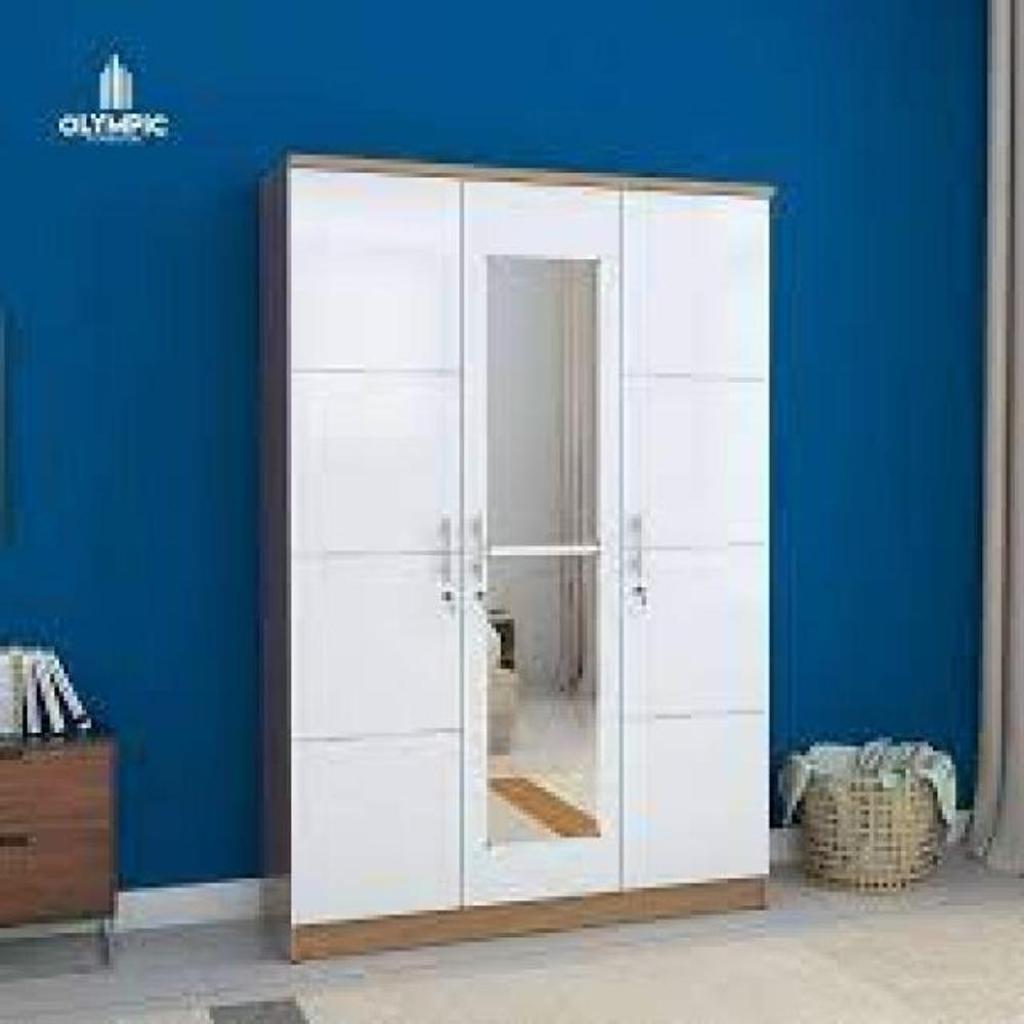cabinet: (260, 146, 774, 963)
